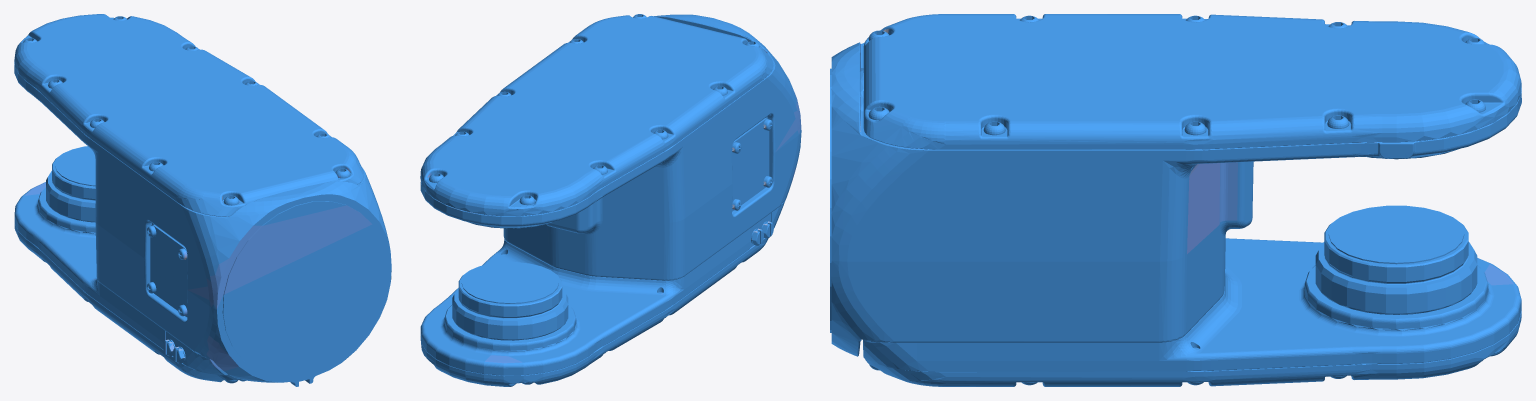
Rendered from YaskawaGP4Link4.dae.
The picture shows the model from 3 angles, left to right: view 1: azimuth 30°, elevation 25°; view 2: azimuth 150°, elevation 25°; view 3: azimuth 270°, elevation 25°; orthographic projection. The views are drawn at different scales.
Visible parts, largest first — view 1: YaskawaGP4Link4; view 2: YaskawaGP4Link4; view 3: YaskawaGP4Link4.
Part boxes in pixels (box(x1,y1,x2,y2)): YaskawaGP4Link4: box(14, 14, 391, 386); YaskawaGP4Link4: box(420, 14, 801, 386); YaskawaGP4Link4: box(830, 14, 1521, 386).
Size of the model in its own units: 0.1013 by 0.2376 by 0.1015.
